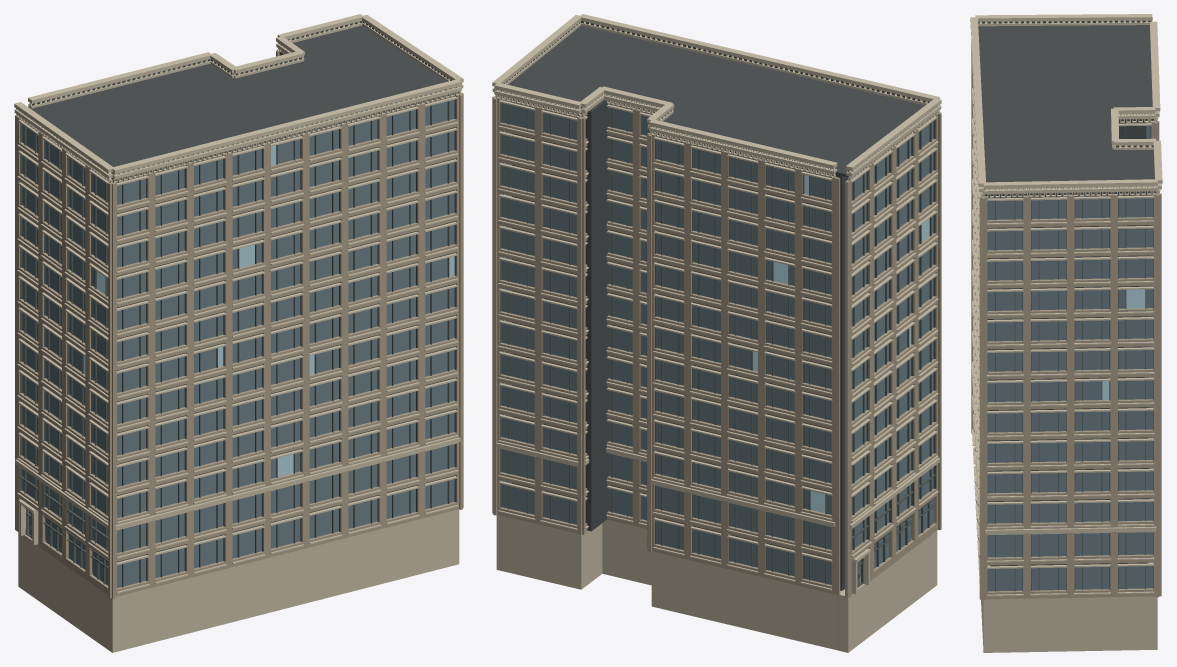
The model's file is sharp_building.glb.
3 views of the same model, side by side, from view 1: azimuth 30°, elevation 25°; view 2: azimuth 150°, elevation 25°; view 3: azimuth 270°, elevation 25° (orthographic). The views are drawn at different scales.
Visible parts, largest first — view 1: Sharp recessed blue grey panes, Sharp warm tan brick, Sharp pale terracotta surrounds, Sharp dark recessed interior and roof, Sharp dark cast iron window frames, Night occupied Sharp panes; view 2: Sharp warm tan brick, Sharp recessed blue grey panes, Sharp pale terracotta surrounds, Sharp dark recessed interior and roof, Sharp dark cast iron window frames, Night occupied Sharp panes; view 3: Sharp recessed blue grey panes, Sharp pale terracotta surrounds, Sharp warm tan brick, Sharp dark recessed interior and roof, Sharp dark cast iron window frames, Night occupied Sharp panes.
Part boxes in pixels (x1,y1,x2,y2): Sharp recessed blue grey panes: (22,94,455,587); Sharp warm tan brick: (15,49,463,598); Sharp pale terracotta surrounds: (14,14,463,652); Sharp dark recessed interior and roof: (30,21,457,580); Sharp dark cast iron window frames: (19,95,455,587); Night occupied Sharp panes: (84,145,454,476); Sharp warm tan brick: (492,96,941,598); Sharp recessed blue grey panes: (501,97,933,584); Sharp pale terracotta surrounds: (492,14,941,652); Sharp dark recessed interior and roof: (498,21,929,590); Sharp dark cast iron window frames: (500,97,936,587); Night occupied Sharp panes: (504,175,929,513); Sharp recessed blue grey panes: (988,120,1155,591); Sharp pale terracotta surrounds: (970,14,1162,652); Sharp warm tan brick: (971,42,1161,600); Sharp dark recessed interior and roof: (978,20,1156,566); Sharp dark cast iron window frames: (987,126,1153,591); Night occupied Sharp panes: (1102,289,1145,399).
Bounding box in the file's own units: 54.3 × 69.3 × 25.7.
